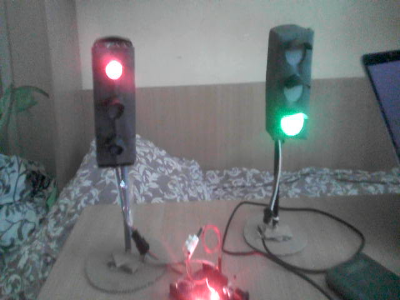trafficlight_green: (275, 30, 312, 140)
trafficlight_red: (94, 42, 136, 163)
